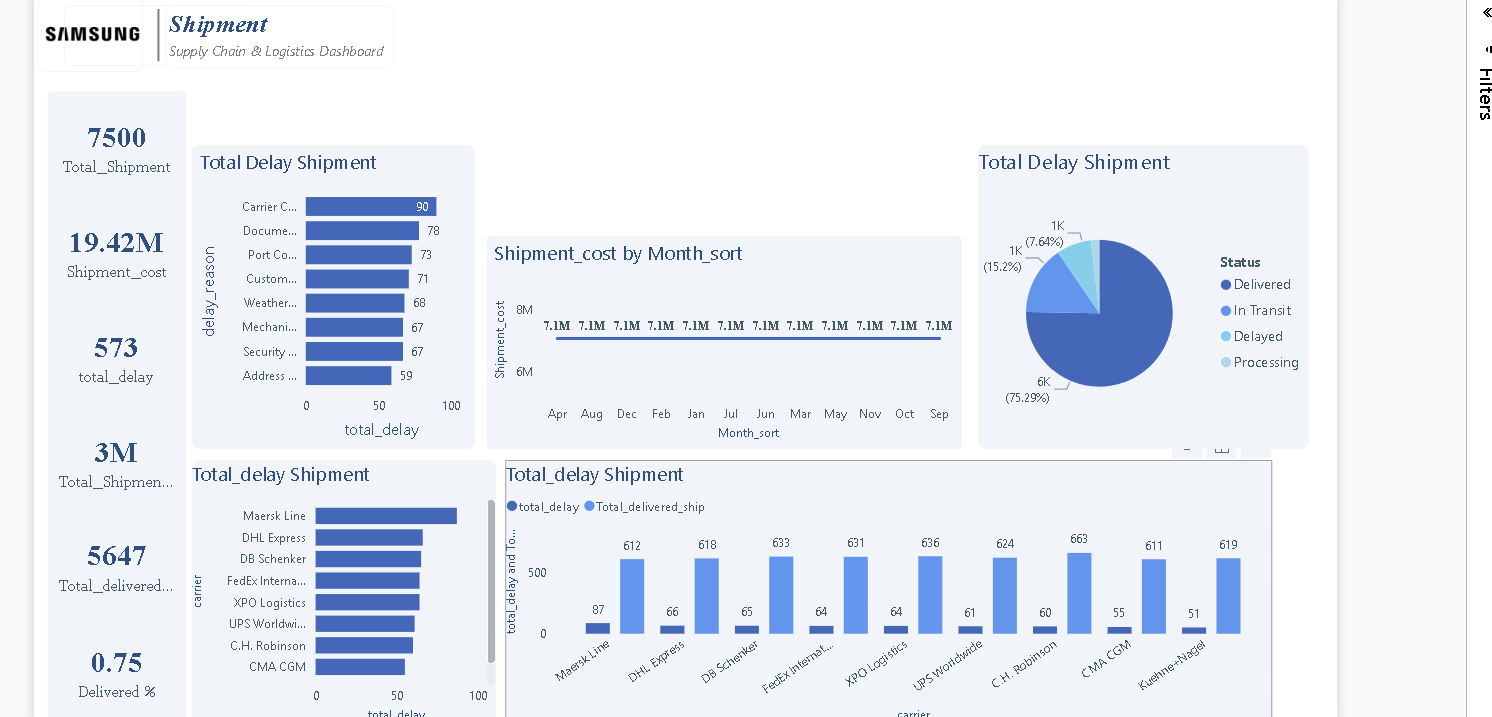

Layout of this report page (visuals, bound fields, positions):
{"tool":"powerbi","page":{"name":"Shipment","canvas":[1280,720],"ordinal":4},"visuals":[{"type":"image","box":[3.7,6.2,103.2,74.6],"z":0},{"type":"shape","box":[29.9,14.9,185.3,59.7],"z":1000},{"type":"shape","title":"Shipment","box":[128.8,14.7,224.5,61.4],"z":2000},{"type":"card","fields":{"Values":["MeasuresTable.Shipment_cost"]},"box":[13,202,135.6,105.3],"z":3000},{"type":"card","fields":{"Values":["MeasuresTable.total_delay"]},"box":[13,305.9,135.6,105.3],"z":4000},{"type":"card","fields":{"Values":["MeasuresTable.Total_delivered_ship"]},"box":[13,510.7,135.6,105.3],"z":5000},{"type":"card","fields":{"Values":["MeasuresTable.Total_Shipment_qty"]},"box":[13,408.3,135.6,105.3],"z":6000},{"type":"card","fields":{"Values":["MeasuresTable.Delivered %"]},"box":[13,614.6,135.6,105.3],"z":7000},{"type":"card","fields":{"Values":["MeasuresTable.Total_Shipment"]},"box":[13,99.6,135.6,105.3],"z":8000},{"type":"clusteredBarChart","title":"Total_delay Shipment","fields":{"Category":["fact_shipment.carrier"],"Y":["MeasuresTable.total_delay"]},"box":[154.6,461.4,299.4,258.9],"z":9000},{"type":"clusteredColumnChart","title":"Total_delay Shipment","fields":{"Category":["fact_shipment.carrier"],"Y":["MeasuresTable.total_delay","MeasuresTable.Total_delivered_ship"]},"box":[462.6,461.4,753.4,258.9],"z":10000},{"type":"clusteredBarChart","title":"Total Delay Shipment","fields":{"Category":["fact_shipment.delay_reason"],"Y":["MeasuresTable.total_delay"]},"box":[154.6,152.1,278.5,298.2],"z":11000},{"type":"lineChart","fields":{"Y":["MeasuresTable.Shipment_cost"],"Category":["dim_date.Month_sort"]},"box":[444.2,241.7,466.3,208.6],"z":12000},{"type":"pieChart","title":"Total Delay Shipment","fields":{"Category":["fact_shipment.status"],"Y":["MeasuresTable.Total_Shipment"]},"box":[926.4,152.1,325.2,298.2],"z":13000}]}

Visuals, with their boxes on the page's 1280x720 design canvas (x1, y1, x2, y2). These are canvas units, not pixel positions in the 1492x717 screenshot, which may show the page scaled, cropped or inside an application window:
image: (left=4, top=6, right=107, bottom=81)
shape: (left=30, top=15, right=215, bottom=75)
"Shipment" shape: (left=129, top=15, right=353, bottom=76)
card - MeasuresTable.Shipment_cost: (left=13, top=202, right=149, bottom=307)
card - MeasuresTable.total_delay: (left=13, top=306, right=149, bottom=411)
card - MeasuresTable.Total_delivered_ship: (left=13, top=511, right=149, bottom=616)
card - MeasuresTable.Total_Shipment_qty: (left=13, top=408, right=149, bottom=514)
card - MeasuresTable.Delivered %: (left=13, top=615, right=149, bottom=720)
card - MeasuresTable.Total_Shipment: (left=13, top=100, right=149, bottom=205)
"Total_delay Shipment" clusteredBarChart: (left=155, top=461, right=454, bottom=720)
"Total_delay Shipment" clusteredColumnChart: (left=463, top=461, right=1216, bottom=720)
"Total Delay Shipment" clusteredBarChart: (left=155, top=152, right=433, bottom=450)
lineChart - MeasuresTable.Shipment_cost x dim_date.Month_sort: (left=444, top=242, right=910, bottom=450)
"Total Delay Shipment" pieChart: (left=926, top=152, right=1252, bottom=450)
